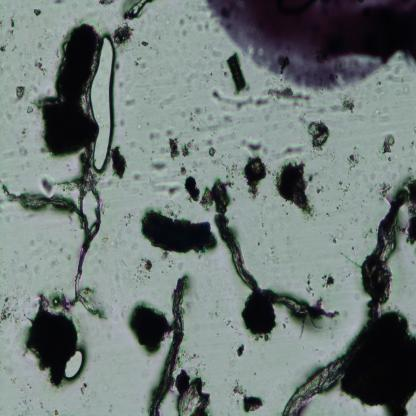Air bubble: (91, 33, 117, 175)
Background material: (35, 22, 100, 153), (339, 307, 416, 416), (366, 181, 406, 319), (29, 289, 79, 384), (274, 161, 314, 218), (130, 304, 171, 354), (240, 136, 274, 196), (242, 292, 278, 343), (174, 368, 211, 416), (212, 88, 270, 108), (224, 54, 250, 96), (6, 377, 34, 416), (62, 345, 89, 385), (232, 379, 263, 413), (403, 173, 416, 250), (122, 0, 153, 25), (0, 14, 20, 51), (308, 118, 331, 149), (178, 348, 205, 374), (267, 87, 311, 101), (168, 138, 198, 158), (131, 257, 154, 282), (0, 294, 20, 321), (112, 24, 134, 47), (273, 142, 304, 158), (184, 176, 202, 202), (158, 181, 182, 199), (41, 174, 58, 196), (113, 152, 126, 180), (264, 242, 279, 266), (337, 94, 354, 114), (184, 104, 204, 121), (379, 135, 395, 156), (31, 57, 48, 76), (199, 185, 213, 208), (304, 272, 316, 298), (132, 54, 149, 72), (158, 93, 174, 108), (348, 149, 359, 170), (321, 274, 336, 288), (338, 180, 351, 196), (218, 114, 235, 126), (15, 83, 27, 100), (178, 17, 187, 38), (131, 171, 146, 183), (150, 162, 169, 171), (146, 130, 160, 142), (128, 142, 144, 152), (96, 0, 115, 8), (299, 112, 308, 127), (206, 146, 217, 158), (236, 343, 245, 357), (314, 104, 325, 115), (80, 381, 89, 393), (165, 128, 177, 137), (124, 98, 137, 106), (314, 184, 325, 193), (119, 116, 126, 129), (167, 258, 176, 268), (179, 165, 188, 175), (140, 40, 151, 48), (53, 0, 65, 7), (34, 6, 41, 18), (224, 318, 233, 327), (51, 408, 61, 416), (160, 252, 168, 261), (25, 105, 34, 113), (137, 122, 143, 131), (309, 173, 315, 182), (207, 138, 213, 146), (332, 105, 338, 112), (332, 237, 338, 244), (410, 140, 414, 150)
Cellulose filter fibre: (212, 178, 337, 320), (0, 184, 103, 316), (146, 275, 188, 416), (281, 352, 349, 416)
Fragment: (139, 207, 218, 258)
Pen: (205, 0, 416, 96)
